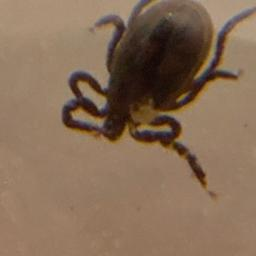Ixodes scapularis: (60, 1, 252, 202)
